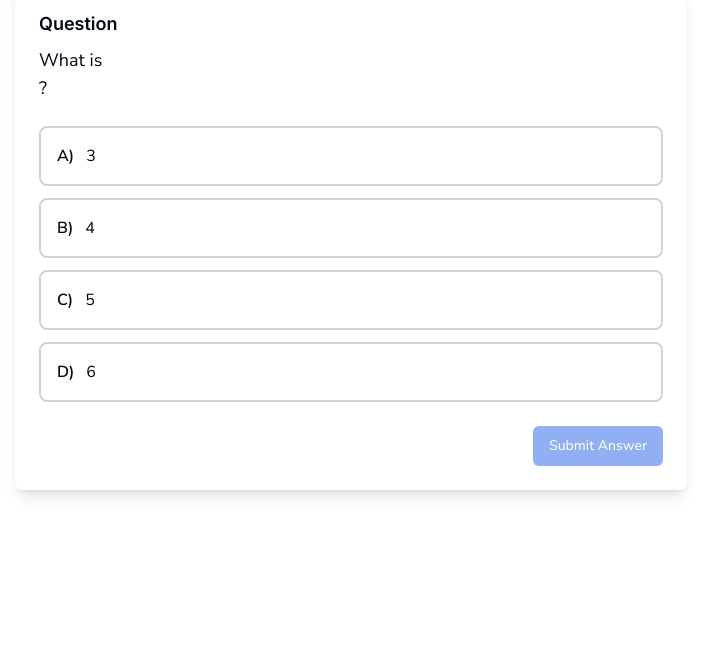
it: QuestionCard › Multiple Choice Questions › submits incorrect answer and shows negative feedback
# Select incorrect answer
Click the text "3".
click(91, 156)  # box left=86, top=145, right=96, bottom=167
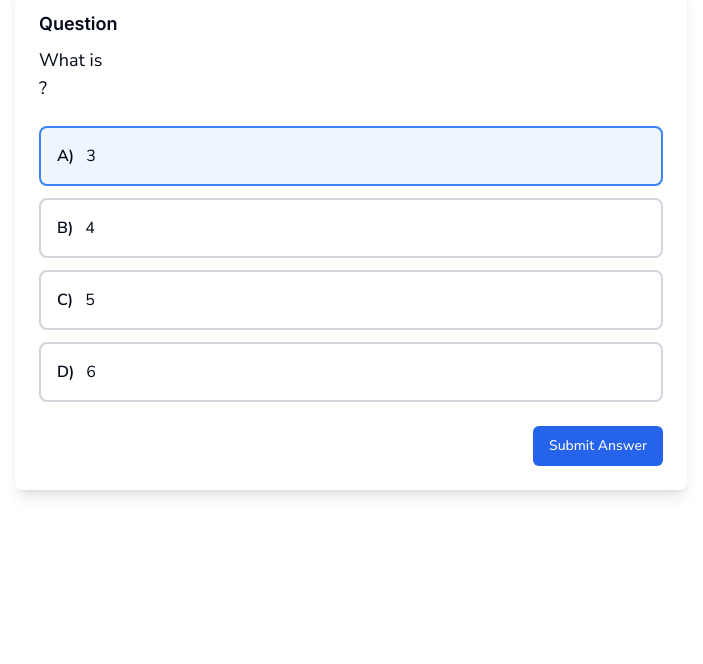
Click the button "Submit Answer".
click(598, 446)  # box left=533, top=426, right=663, bottom=466
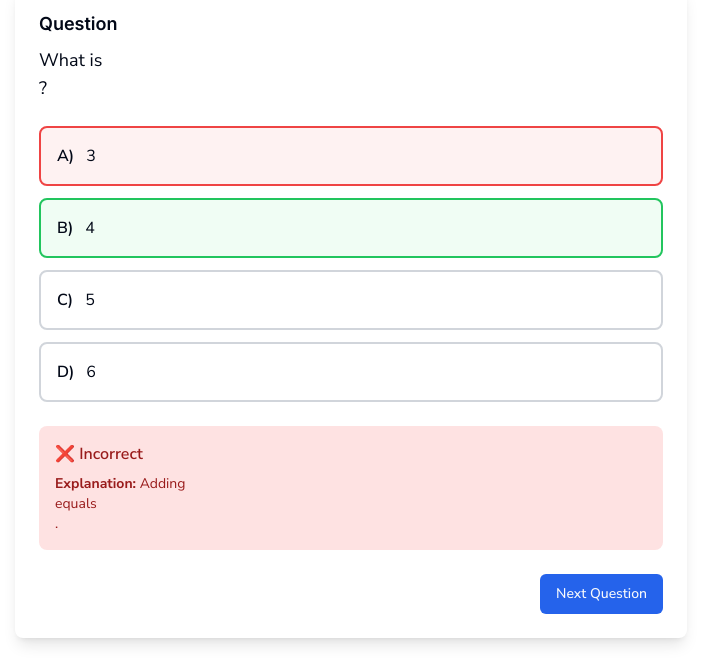
Expected: the text "❌ Incorrect" is shown, left=55, top=443, right=143, bottom=465
